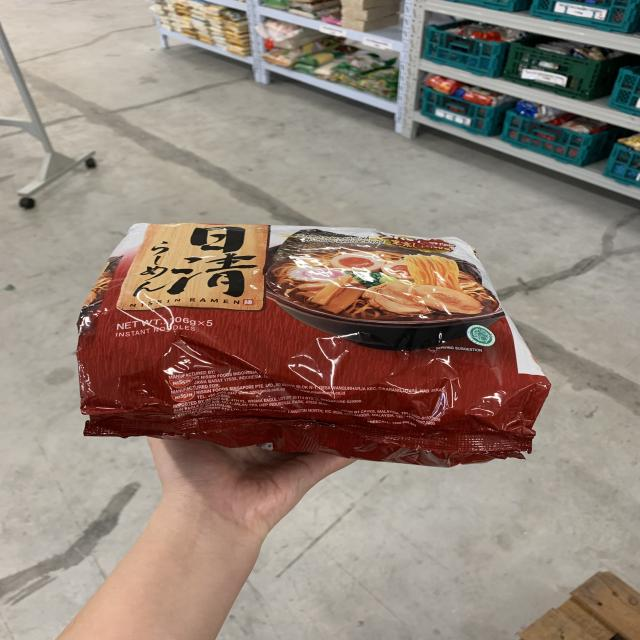object_name: (89, 225, 521, 457)
